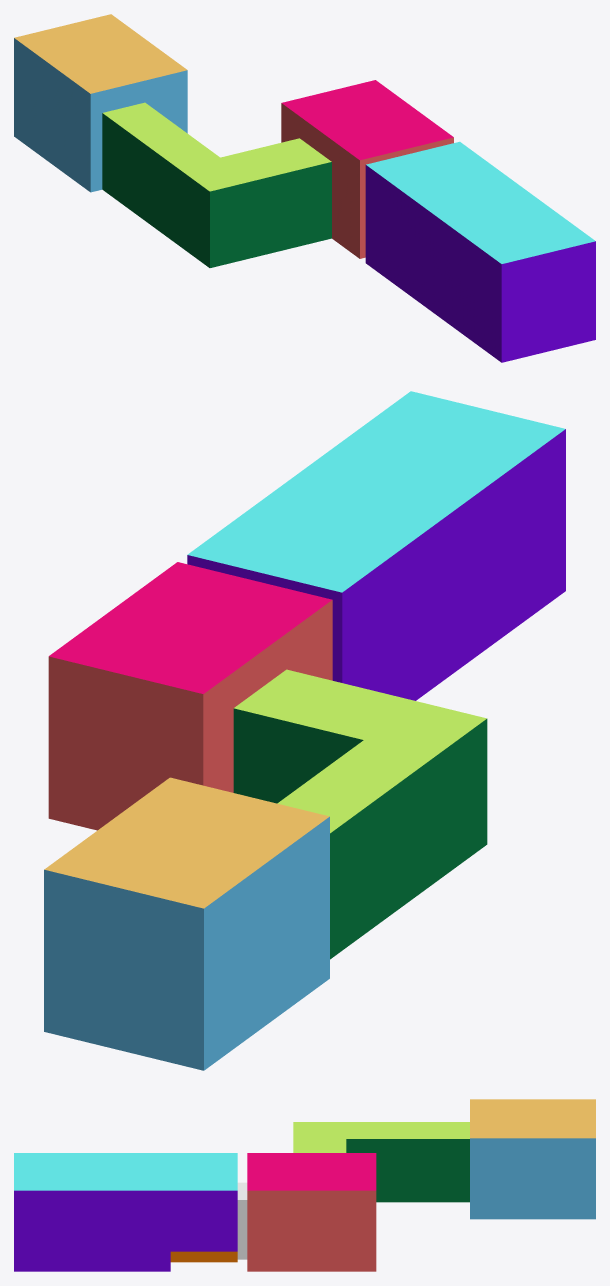
The model's file is few-rooms-colored.dae.
3 renders of one model, top to bottom at view 1: azimuth 30°, elevation 25°; view 2: azimuth 150°, elevation 25°; view 3: azimuth 270°, elevation 25°, orthographic. The views are drawn at different scales.
Parts seen in each view (by area): view 1: SketchUp (×8); view 2: SketchUp (×9); view 3: SketchUp (×10).
Part boxes in pixels (x1,y1,x2,y2): SketchUp (×8): [14, 14, 595, 362]; SketchUp (×9): [44, 391, 565, 1070]; SketchUp (×10): [14, 1099, 595, 1271].
Bounding box in the file's own units: 381 × 1024 × 157.
